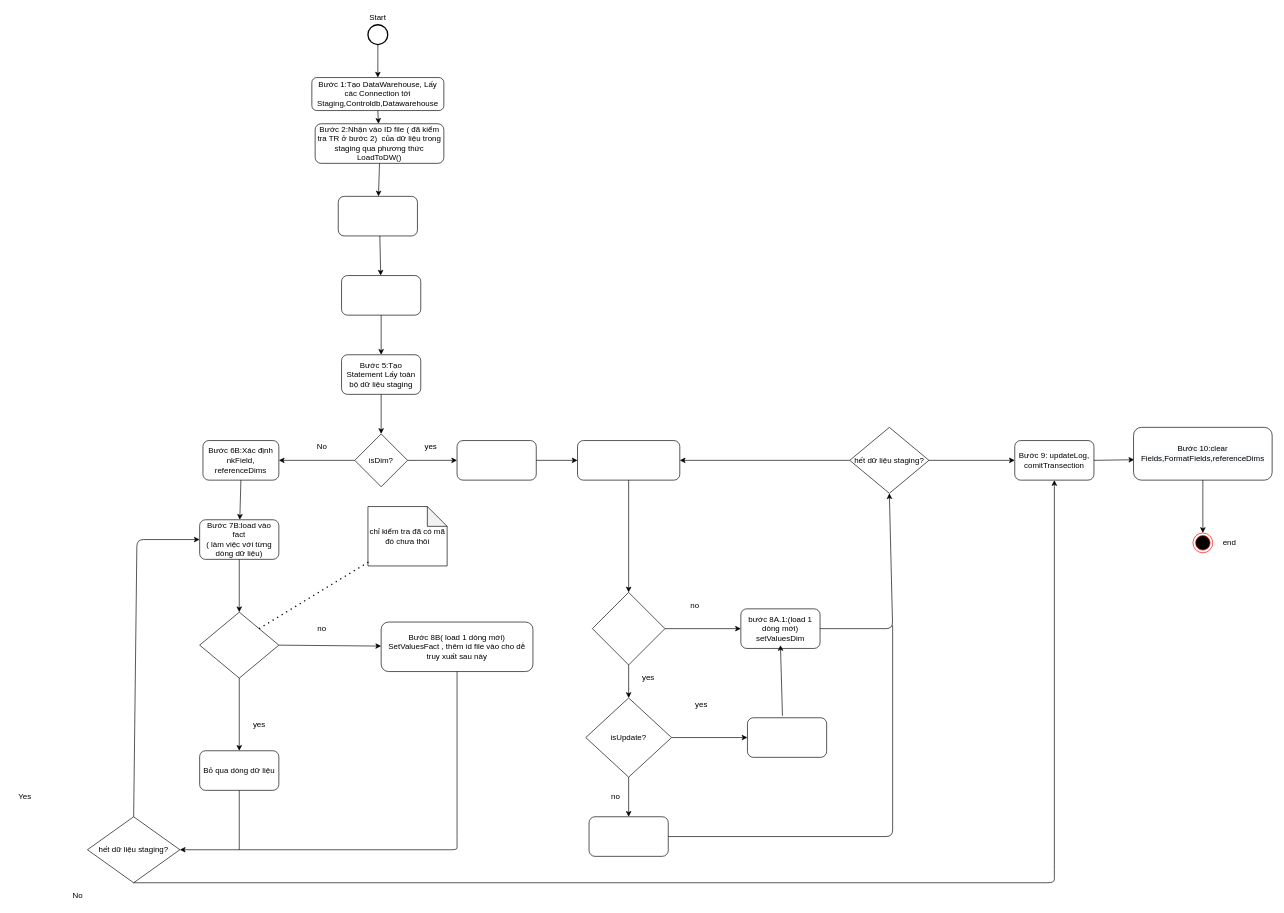
Some shapes in this 1284 by 913 pixel diagram are drawn without their labels. The shapes that lost their labels are listed below. From the top down, each one's box as (x1, y1, x2, y2) in pixels, then its label:
(338, 196, 417, 236): Bước 3:Lấy config id từ log qua connection controll
(341, 275, 421, 315): Bước 4:Lấy Thông tin is DIim, Id target table từ configuration dựa vào config id
(456, 440, 536, 480): Bước 6A: xác định NKField, Fields,FormatFields
(577, 440, 680, 480): Bước 7A: load vào dim ( làm việc với từng dòng dữ liệu)
(199, 611, 279, 678): Dữ liệu đã tồn tại ?
(592, 592, 665, 665): dữ liệu tồn tại?
(747, 717, 827, 757): Bước 8A.2( set dòng cũ hết hạn) setExpireDate
(588, 816, 668, 856): bỏ qua dòng dữ liệu staging
